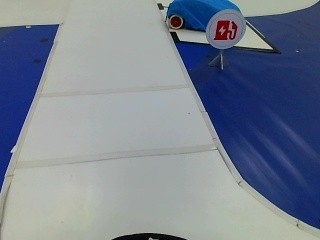battery: (210, 13, 244, 47)
car: (162, 0, 239, 32)
